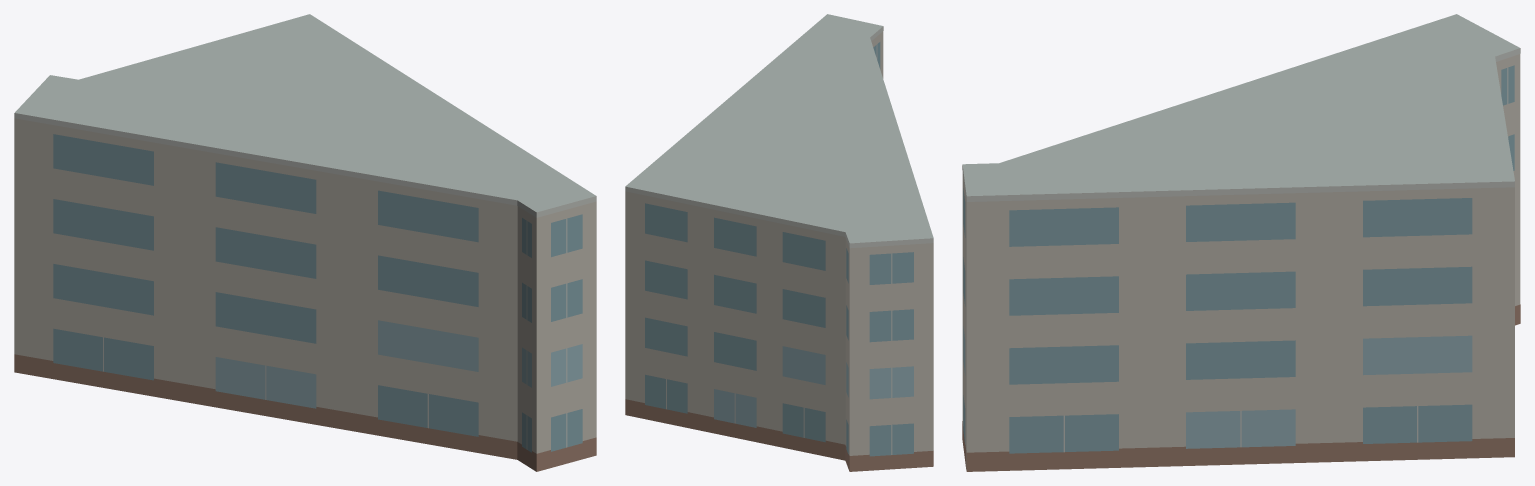
The model's file is survey-upis-32904280.glb.
3 views of the same model, side by side, from view 1: azimuth 30°, elevation 25°; view 2: azimuth 150°, elevation 25°; view 3: azimuth 270°, elevation 25° (orthographic). The views are drawn at different scales.
Visible parts, largest first — view 1: survey-upis-32904280.tmp; view 2: survey-upis-32904280.tmp; view 3: survey-upis-32904280.tmp.
Boxes of the visible parts, x1,y1,x2,y2 form: survey-upis-32904280.tmp: (14, 14, 596, 471); survey-upis-32904280.tmp: (625, 14, 933, 471); survey-upis-32904280.tmp: (962, 14, 1520, 471).
Size of the model in its own units: 16.46 by 11.6 by 21.28.
